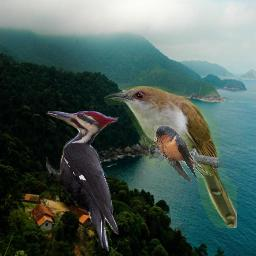Cuckoo: (104, 86, 237, 228)
Swallow: (154, 125, 211, 182)
Woodpecker: (46, 111, 119, 251)
